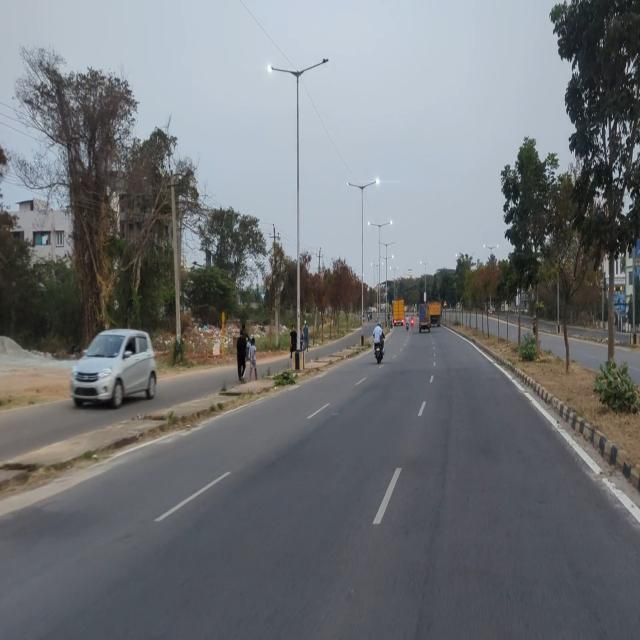bien_cam: (443, 299, 447, 306)
